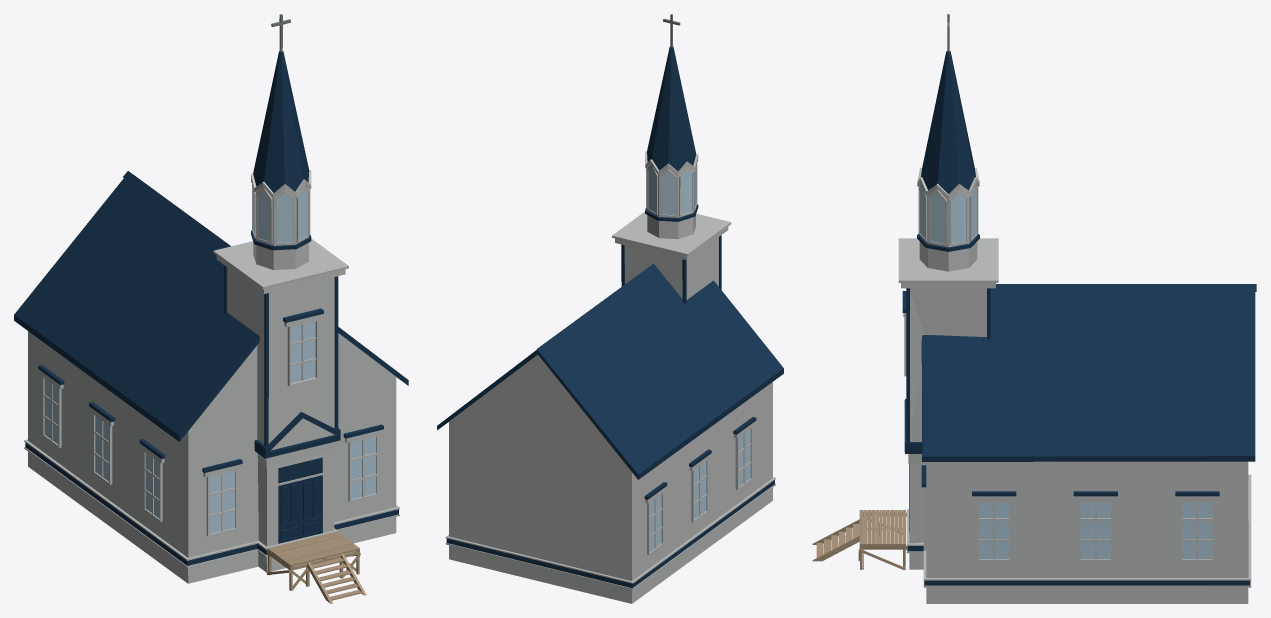
File: church_lev2.glb
3 views of the same model, side by side, from view 1: azimuth 30°, elevation 25°; view 2: azimuth 150°, elevation 25°; view 3: azimuth 270°, elevation 25° (orthographic). The views are drawn at different scales.
Visible parts, largest first — view 1: church_lev2; view 2: church_lev2; view 3: church_lev2.
Boxes of the visible parts, x1,y1,x2,y2 form: church_lev2: (14,14,408,603); church_lev2: (437,14,783,603); church_lev2: (812,14,1256,603).
Bounding box in the file's own units: 14.52 × 32.41 × 24.22.
1 material, 1 textured.
